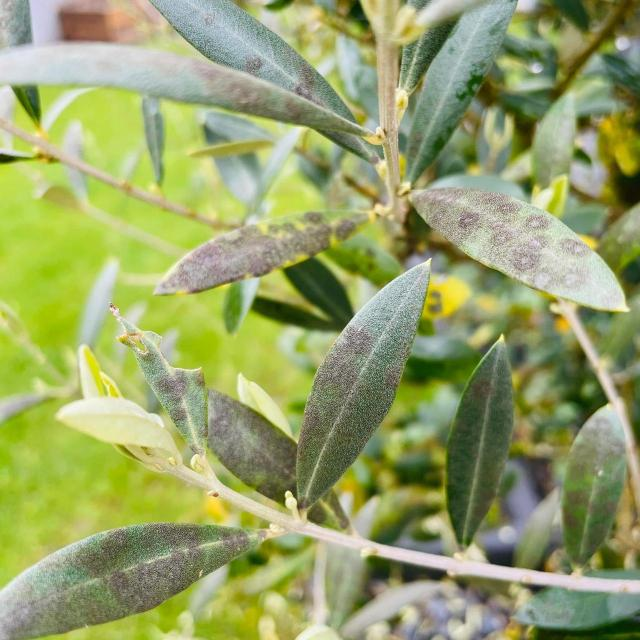Peacock Eye: (0, 43, 363, 134), (296, 260, 429, 506), (0, 522, 268, 640), (409, 188, 627, 311), (154, 211, 372, 294), (446, 336, 513, 547), (562, 404, 626, 566), (208, 390, 296, 502)
